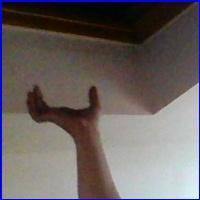space: (20, 78, 114, 140)
